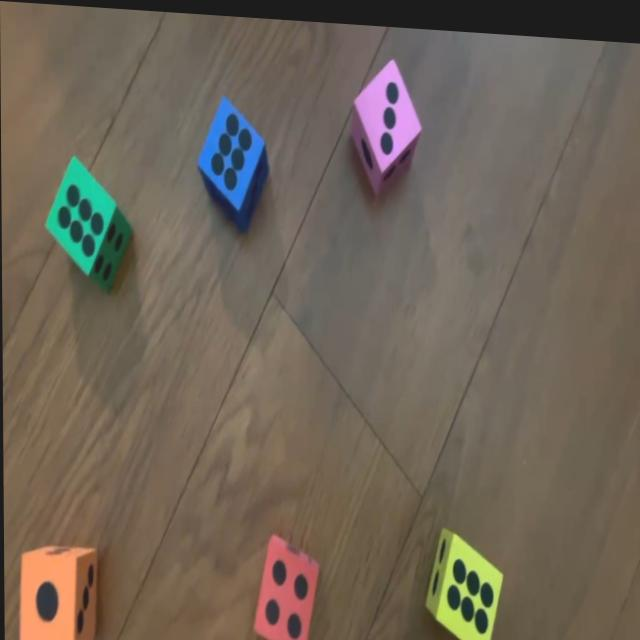blue_block: (197, 94, 267, 225)
red_block: (252, 525, 321, 640)
